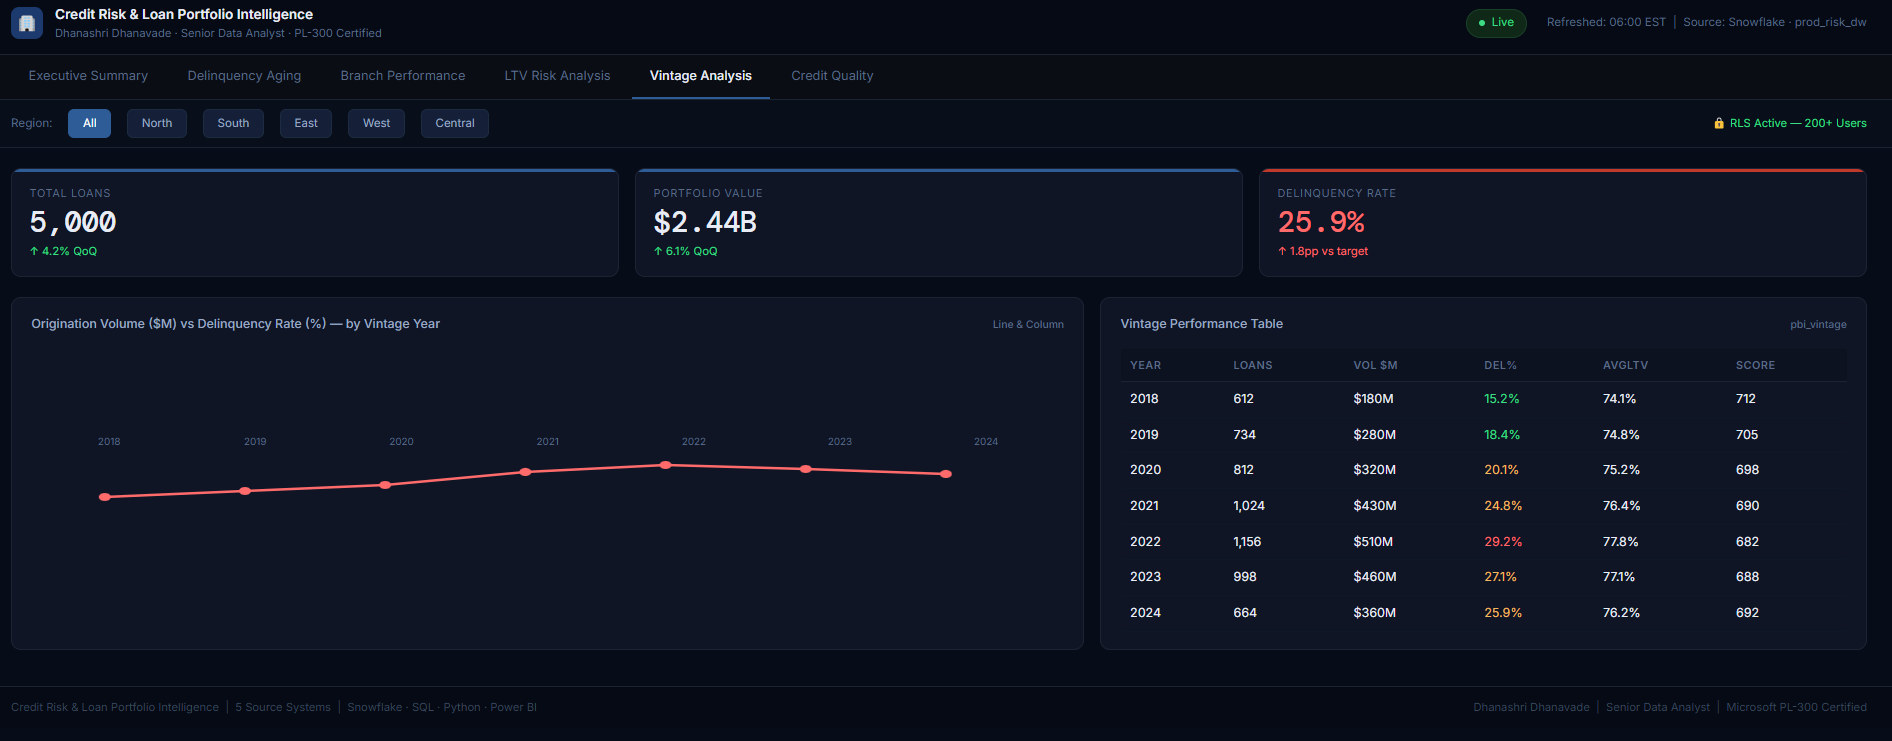

The page's visual inventory and layout, read from the dashboard file:
{"tool":"powerbi","page":{"name":"Vintage","canvas":[1280,720],"ordinal":4},"visuals":[{"type":"textbox","box":[10,0,280,280],"z":0},{"type":"lineClusteredColumnComboChart","fields":{"Category":["pbi_vintage.OriginationYear"],"Y":["Avg(pbi_vintage.Volume_M)"],"Y2":["Avg(pbi_vintage.DelRate)"]},"box":[10.1,289.5,553.8,344.9],"z":1},{"type":"tableEx","fields":{"Values":["pbi_vintage.OriginationYear","pbi_vintage.Loans","pbi_vintage.Volume_M","pbi_vintage.DelRate","pbi_vintage.AvgCreditScore","pbi_vintage.AvgLTV"]},"box":[711.1,360,280.7,279.4],"z":2},{"type":"card","fields":{"Values":["pbi_master_loans.Total Loans"]},"box":[996,0,280,280],"z":3},{"type":"card","fields":{"Values":["pbi_master_loans.Total Portfolio $B"]},"box":[996,360,280,279],"z":4},{"type":"card","fields":{"Values":["pbi_master_loans.Delinquency Rate"]},"box":[290,0,274,280],"z":5},{"type":"slicer","fields":{"Values":["pbi_master_loans.LoanType"]},"box":[711,0,281,280],"z":6}]}

Visuals, with their boxes on the page's 1280x720 design canvas (x1, y1, x2, y2). These are canvas units, not pixel positions in the 1892x741 screenshot, which may show the page scaled, cropped or inside an application window:
textbox: 10,0,290,280
lineClusteredColumnComboChart - pbi_vintage.OriginationYear x Avg(pbi_vintage.Volume_M): 10,290,564,634
tableEx - pbi_vintage.OriginationYear x pbi_vintage.Loans: 711,360,992,639
card - pbi_master_loans.Total Loans: 996,0,1276,280
card - pbi_master_loans.Total Portfolio $B: 996,360,1276,639
card - pbi_master_loans.Delinquency Rate: 290,0,564,280
slicer - pbi_master_loans.LoanType: 711,0,992,280
